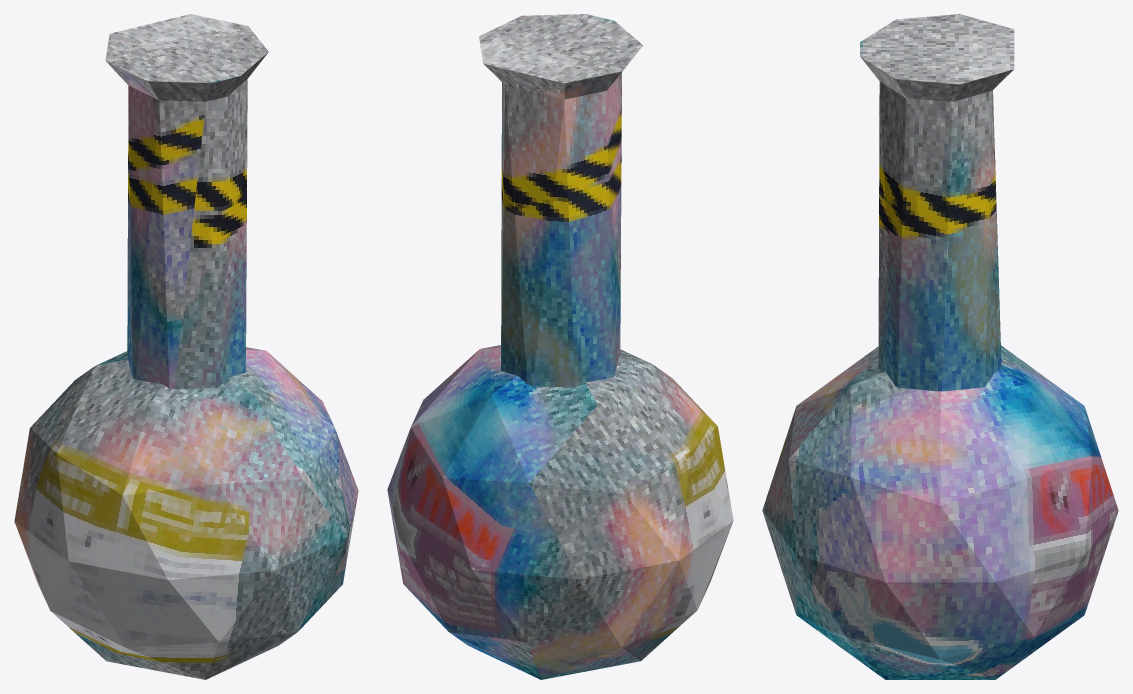
File: Matraz Var-1.gltf
3 views of the same model, side by side, from view 1: azimuth 30°, elevation 25°; view 2: azimuth 150°, elevation 25°; view 3: azimuth 270°, elevation 25° (orthographic).
Visible parts, largest first — view 1: Matraz1; view 2: Matraz1; view 3: Matraz1.
Part boxes in pixels (bbox=[...]): Matraz1: bbox=[14, 14, 358, 679]; Matraz1: bbox=[387, 14, 733, 679]; Matraz1: bbox=[762, 14, 1118, 679].
Bounding box in the file's own units: 1.9 × 3.86 × 2.
Materials: 1 (1 with a texture image).
